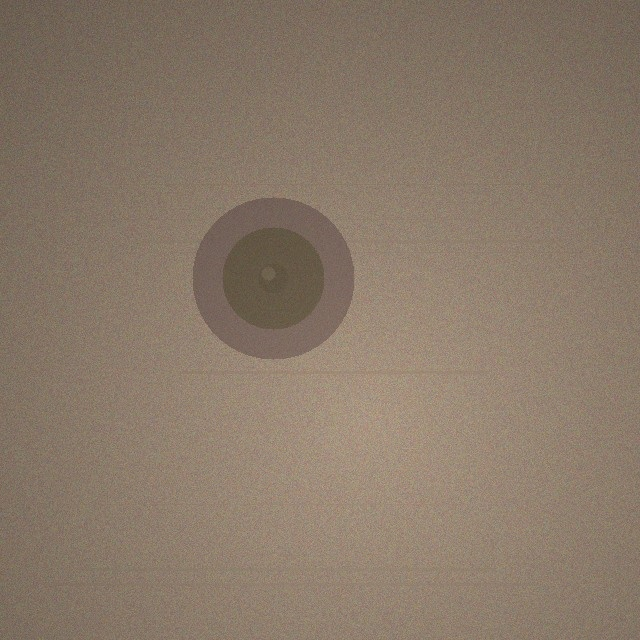good: (192, 197, 354, 359)
